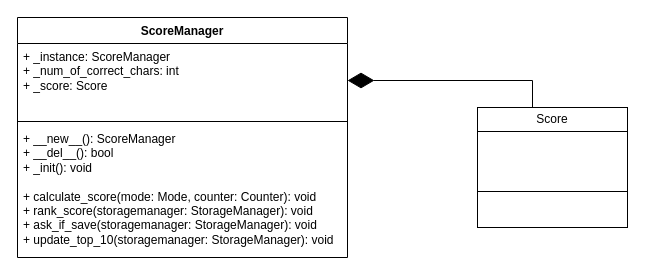
Image size: 645x278. Some labels were removed from this diagram. The shapes that lost their labels are listed below. From the top down, each one's box as (x1, y1, x2, y2) in pixels, then its label:
(476, 130, 628, 192): + _id: int + _value: int + _player_name: str + _ranking: int
(476, 190, 628, 228): +_init():void + input_player_name
